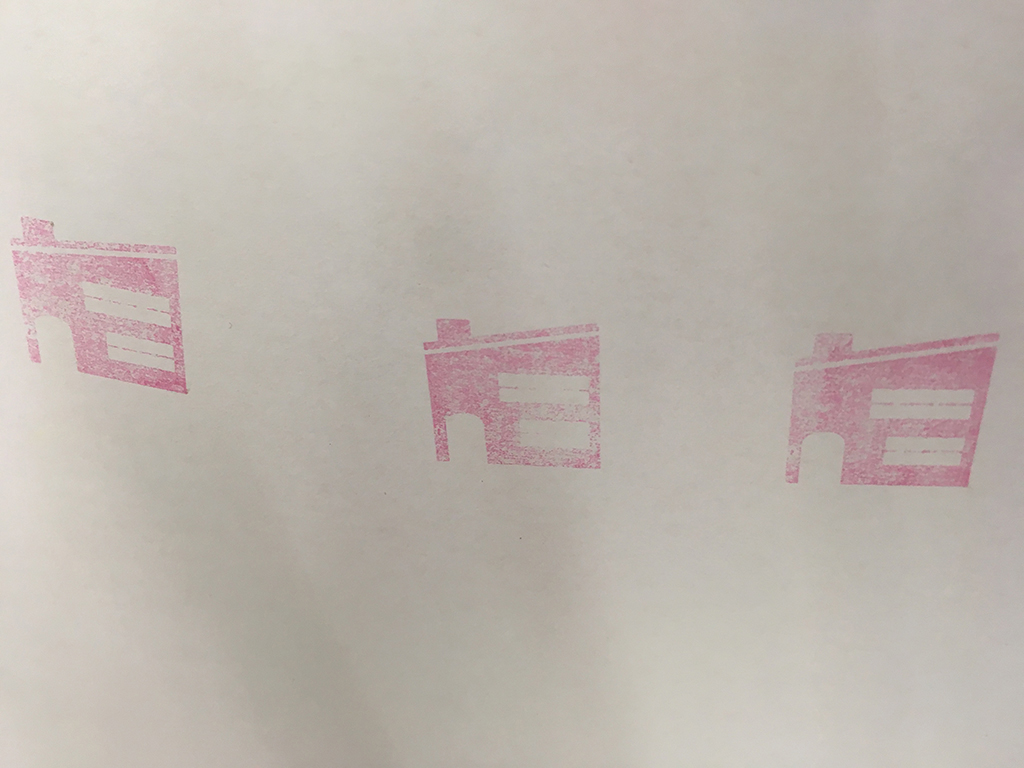house: (772, 296, 1010, 511), (1, 204, 200, 409), (415, 296, 615, 491)
